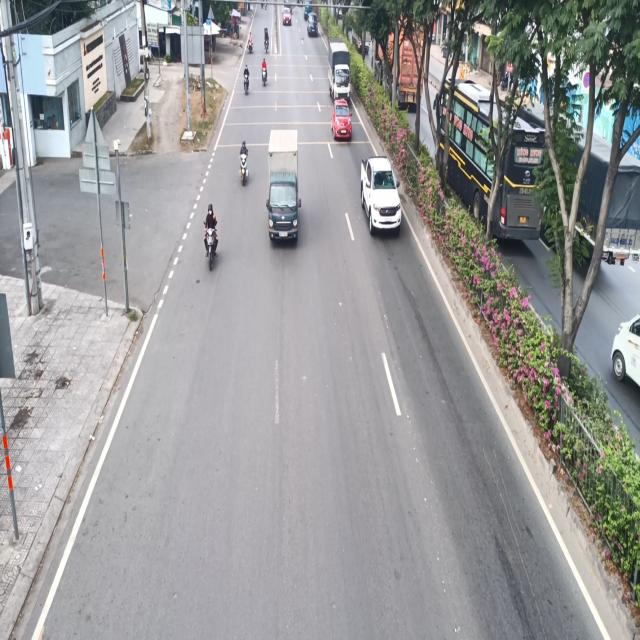car: (360, 149, 404, 247), (330, 92, 354, 142)
motor: (203, 199, 220, 275), (239, 133, 251, 190), (243, 65, 253, 98), (260, 56, 269, 89)
truck: (268, 126, 305, 250), (326, 37, 353, 104)
